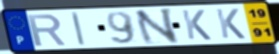9: (106, 10, 137, 45)
I: (69, 11, 87, 47)
K: (214, 8, 248, 40), (180, 9, 214, 41)
N: (132, 7, 181, 46)
R: (26, 13, 69, 48)
